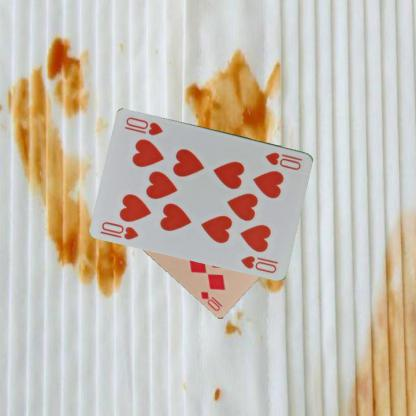10h: (263, 149, 304, 172), (99, 219, 140, 241)
